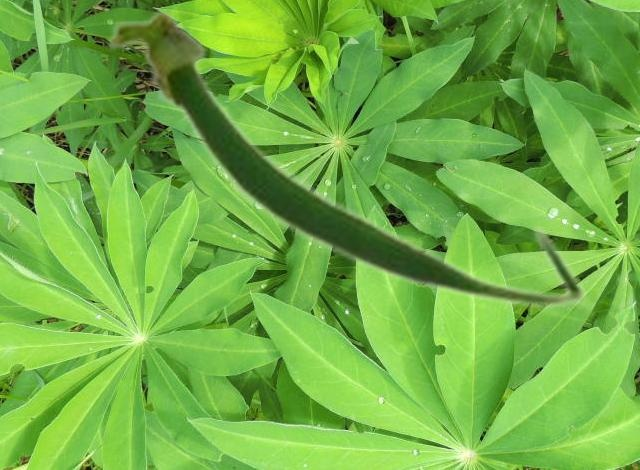french_bean: (104, 5, 588, 310)
